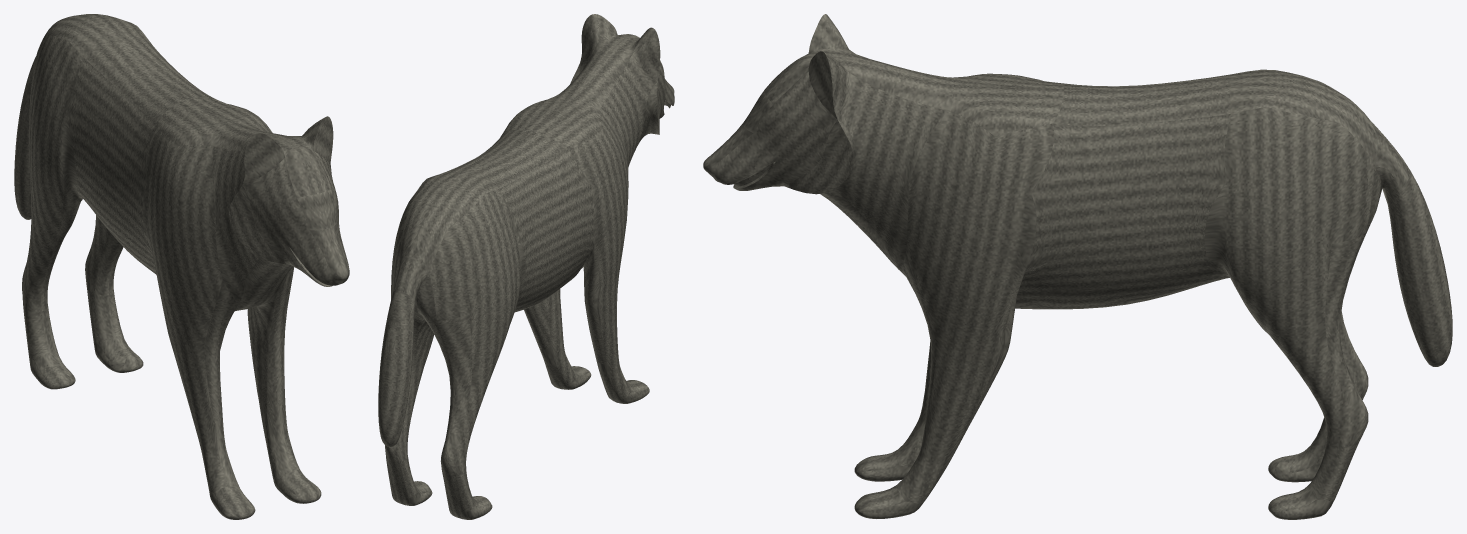
The model's file is wolf.glb.
The picture shows the model from 3 angles, left to right: view 1: azimuth 30°, elevation 25°; view 2: azimuth 150°, elevation 25°; view 3: azimuth 270°, elevation 25°; orthographic projection. The views are drawn at different scales.
Parts seen in each view (by area): view 1: Wolf; view 2: Wolf; view 3: Wolf.
Part boxes in pixels (left/top/right/bottom): Wolf: left=14, top=14, right=349, bottom=519; Wolf: left=378, top=14, right=674, bottom=519; Wolf: left=703, top=14, right=1452, bottom=519.
Size of the model in its own units: 0.3723 by 1.14 by 1.68.
Materials: 1 (1 with a texture image).
